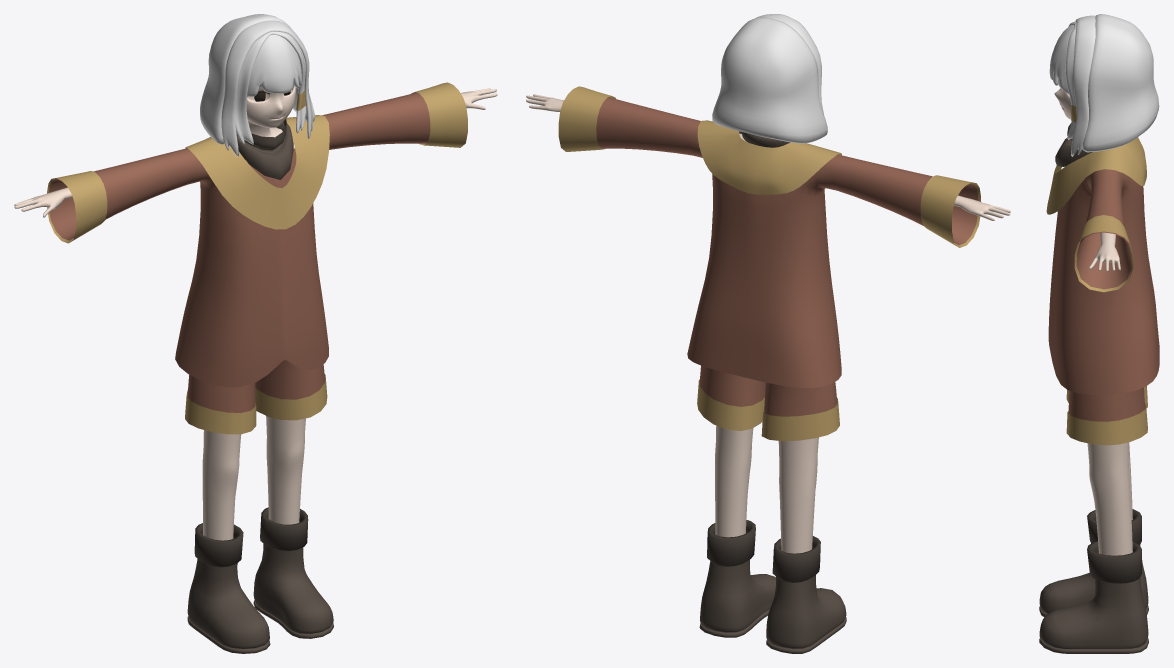
The picture shows the model from 3 angles, left to right: view 1: azimuth 30°, elevation 25°; view 2: azimuth 150°, elevation 25°; view 3: azimuth 270°, elevation 25°; orthographic projection.
Visible parts, largest first — view 1: Cloth.002; view 2: Cloth.002; view 3: Cloth.002.
Boxes of the visible parts, x1=… form: Cloth.002: x1=14, y1=14, x2=497, y2=653; Cloth.002: x1=526, y1=14, x2=1010, y2=653; Cloth.002: x1=1039, y1=14, x2=1159, y2=653.
Size of the model in its own units: 131 by 28.28 by 157.
